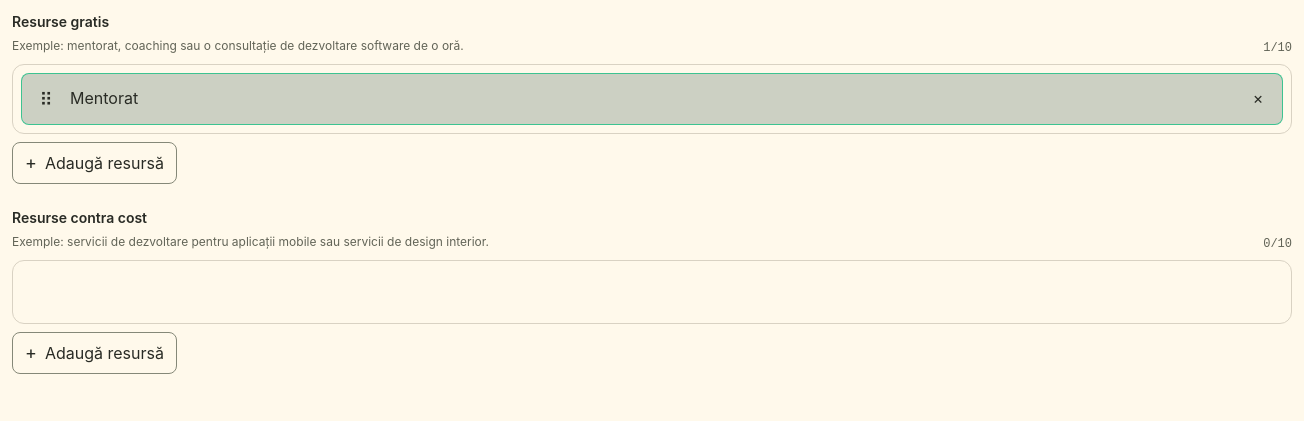
Test: ResourceEditor › edits inline with Enter and cancels an edit with Escape
Click the button "Mentorat": x=104, y=98 [70, 82, 1234, 114]
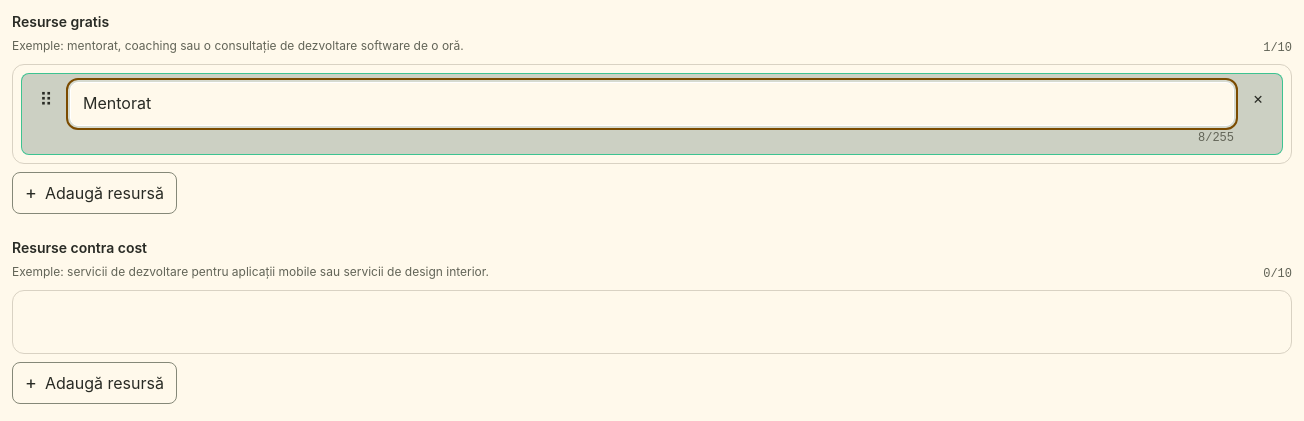
Result: the text "8/255" is shown at [1198, 130, 1234, 146]
Replace the text in the text box named "Editează Mentorat" with "Coaching": x=652, y=104 [70, 82, 1234, 126]
Then press Enter
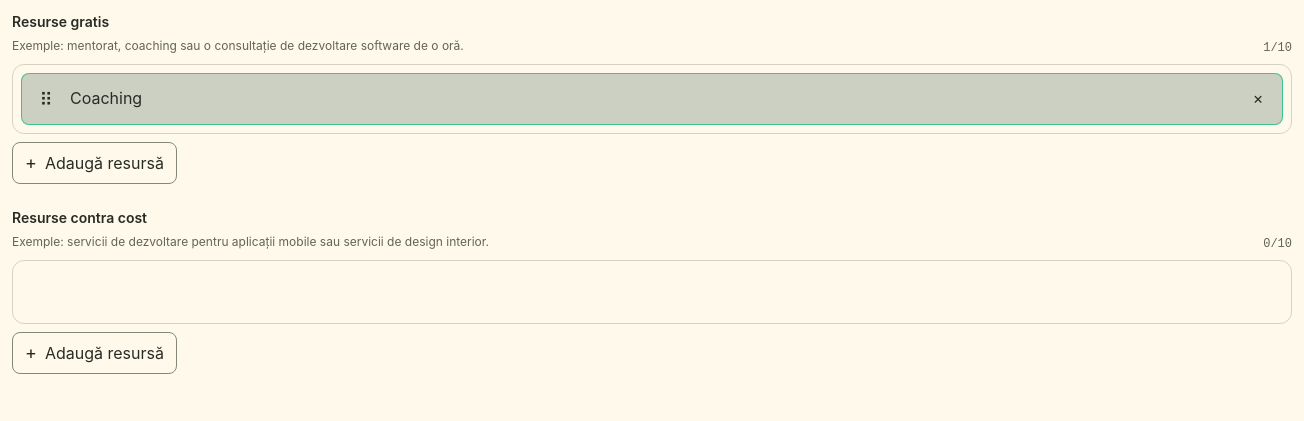
Result: the button "Coaching" is shown
Click the button "Coaching": x=106, y=98 [70, 82, 1234, 114]
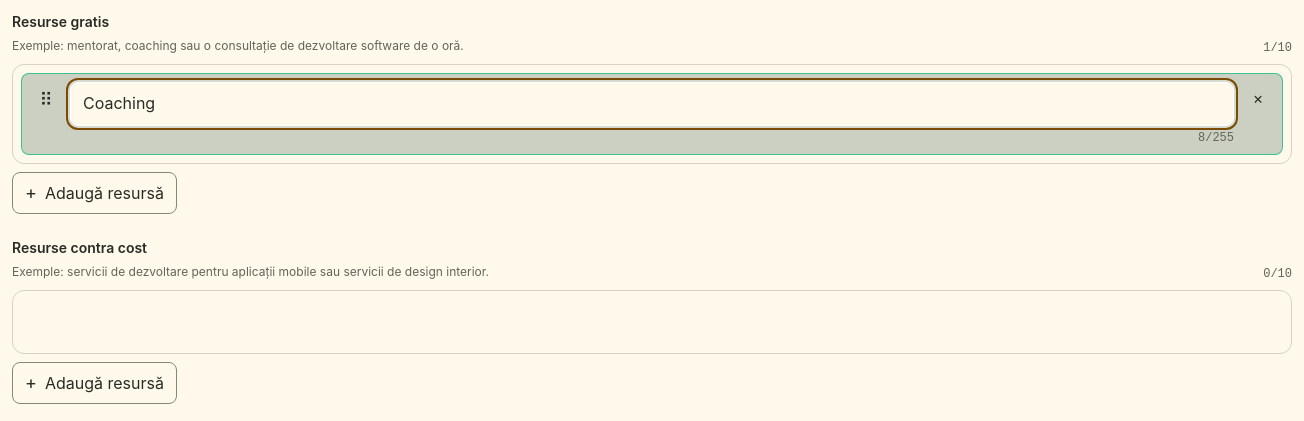
Replace the text in the text box named "Editează Coaching" with "Schimbat": x=652, y=104 [70, 82, 1234, 126]
Then press Escape
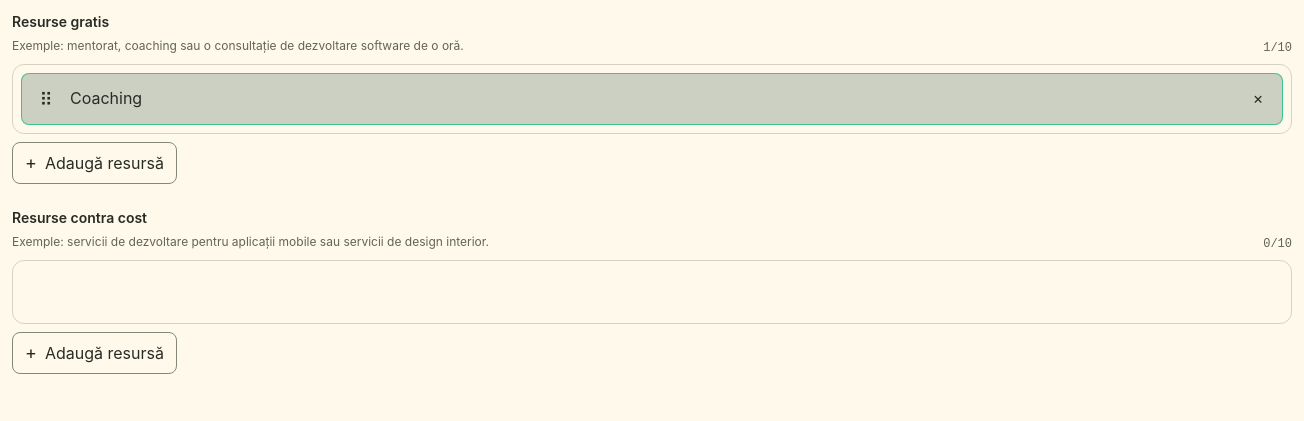
Result: the button "Coaching" is shown at [70, 82, 1234, 114]
